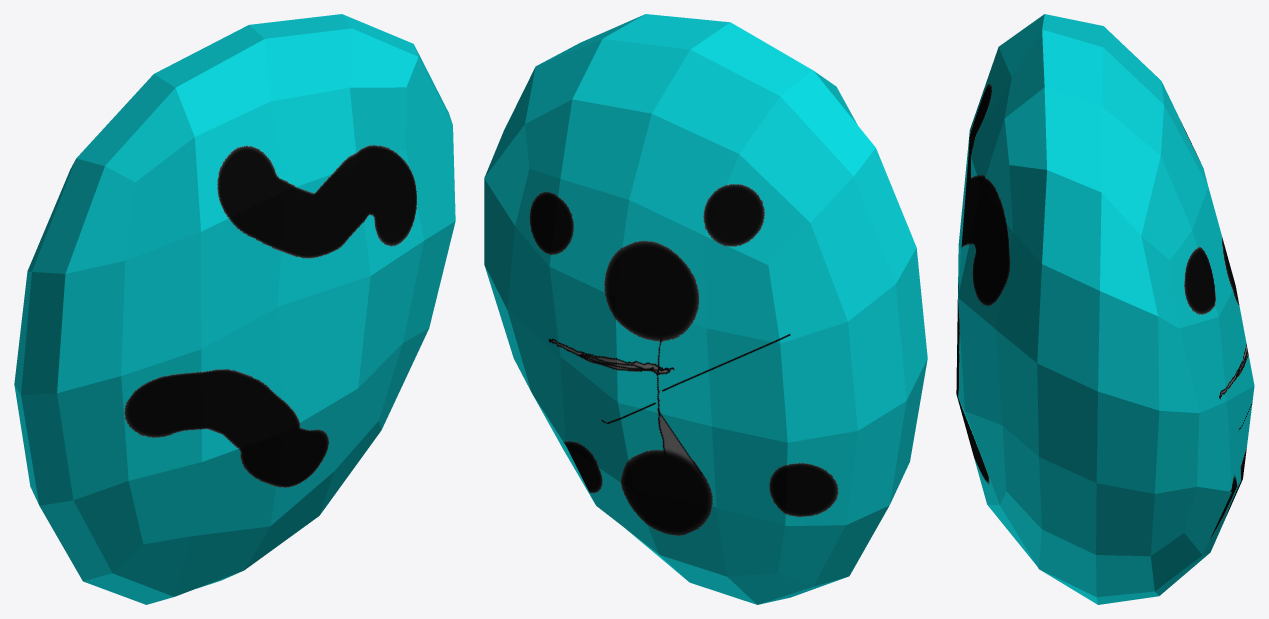
The model's file is artifact.glb.
3 renders of one model, left to right at view 1: azimuth 30°, elevation 25°; view 2: azimuth 150°, elevation 25°; view 3: azimuth 270°, elevation 25°, orthographic. The views are drawn at different scales.
Parts seen in each view (by area): view 1: Cube; view 2: Cube; view 3: Cube.
Boxes of the visible parts, x1,y1,x2,y2 form: Cube: [14, 14, 455, 604]; Cube: [484, 14, 927, 604]; Cube: [956, 14, 1254, 604].
Size of the model in its own units: 0.9048 by 1.14 by 0.5225.
1 material, 1 textured.
